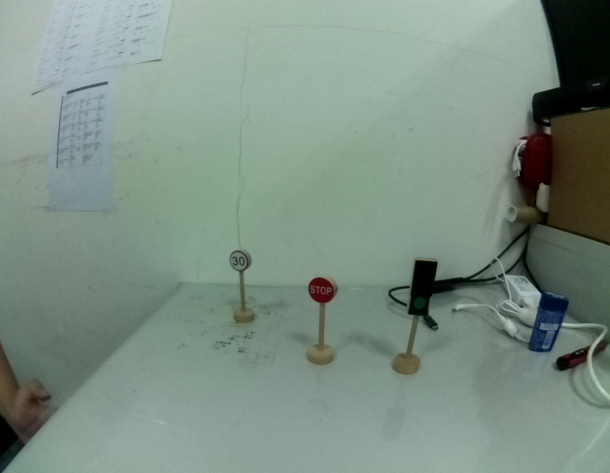Green: (406, 250, 439, 318)
Speed30: (226, 243, 256, 277)
Stop: (308, 272, 342, 304)
